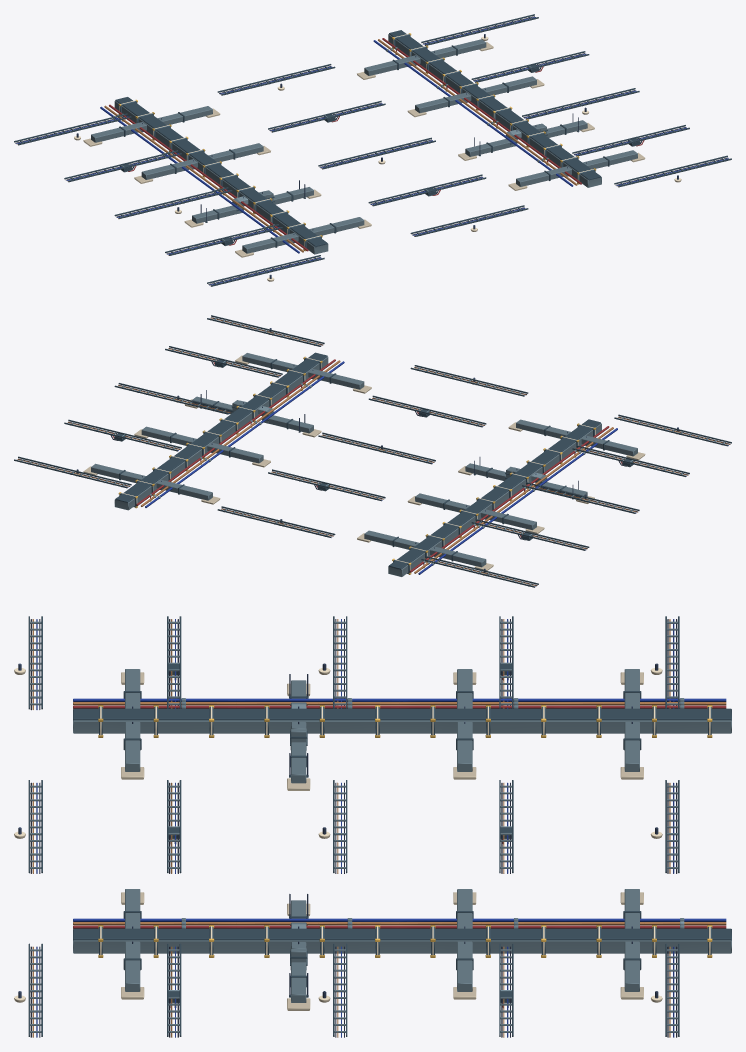
File: building_services.glb
3 renders of one model, top to bottom at view 1: azimuth 30°, elevation 25°; view 2: azimuth 150°, elevation 25°; view 3: azimuth 270°, elevation 25°, orthographic. The views are drawn at different scales.
Parts seen in each view (by area): view 1: building_services; view 2: building_services; view 3: building_services.
Part boxes in pixels (x1,y1,x2,y2): building_services: [14, 14, 731, 286]; building_services: [14, 315, 731, 587]; building_services: [14, 616, 731, 1037].
Size of the model in its own units: 35.8 by 1.08 by 25.94.
